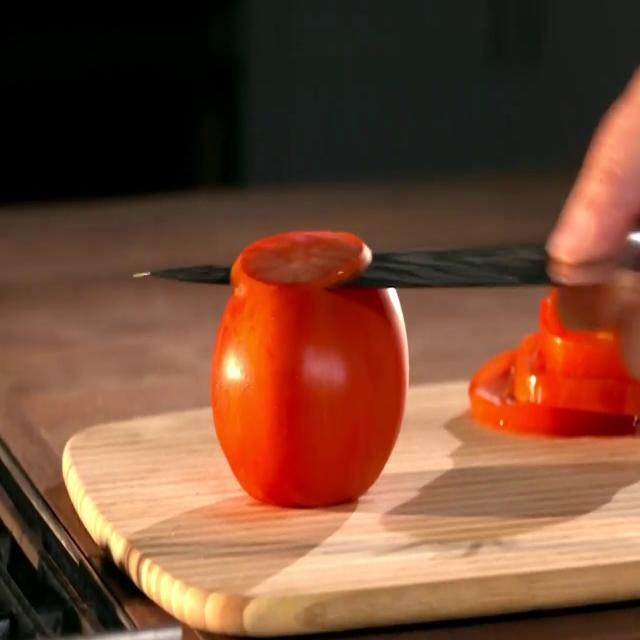Knife: (132, 229, 640, 288)
